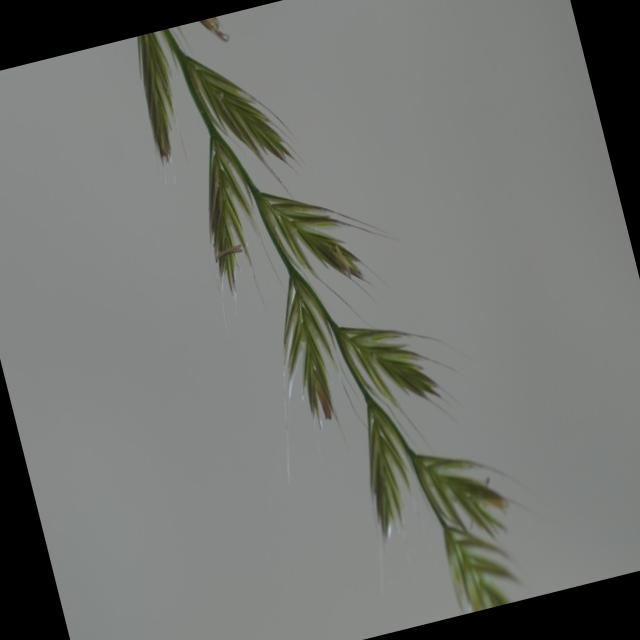Lolium: (124, 0, 542, 640)
